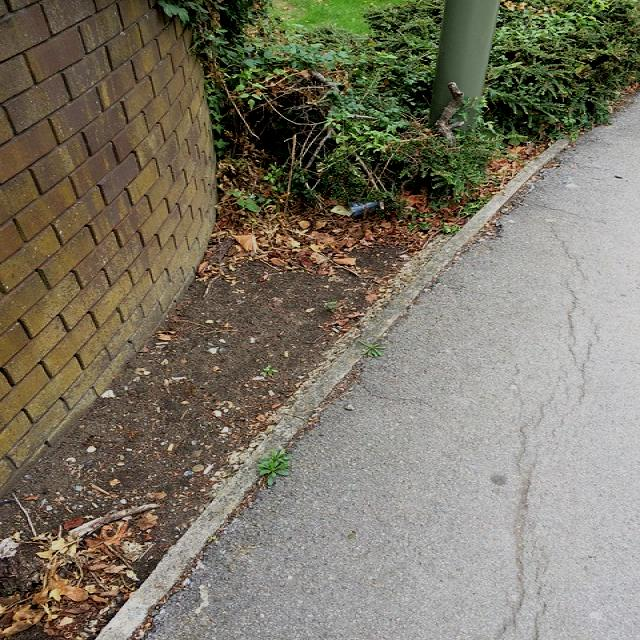Trash: (347, 194, 379, 220)
